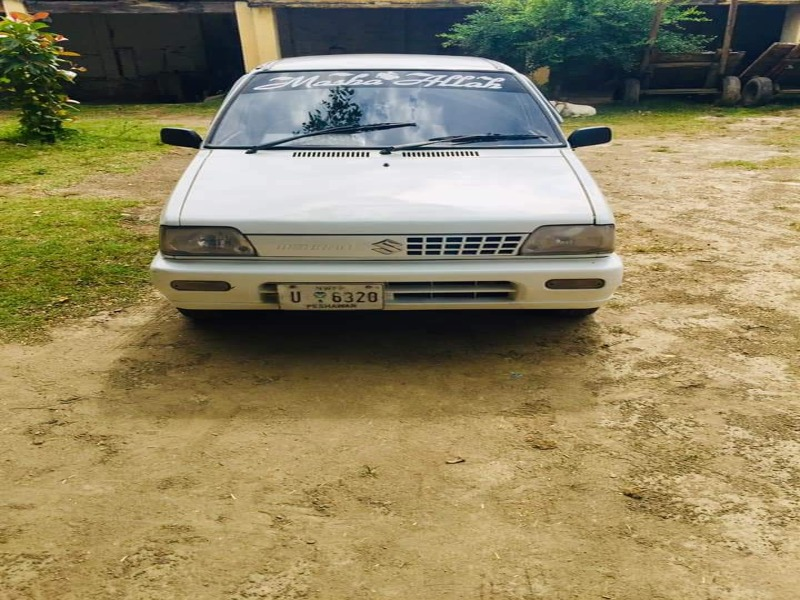License Plate: (272, 275, 388, 317)
